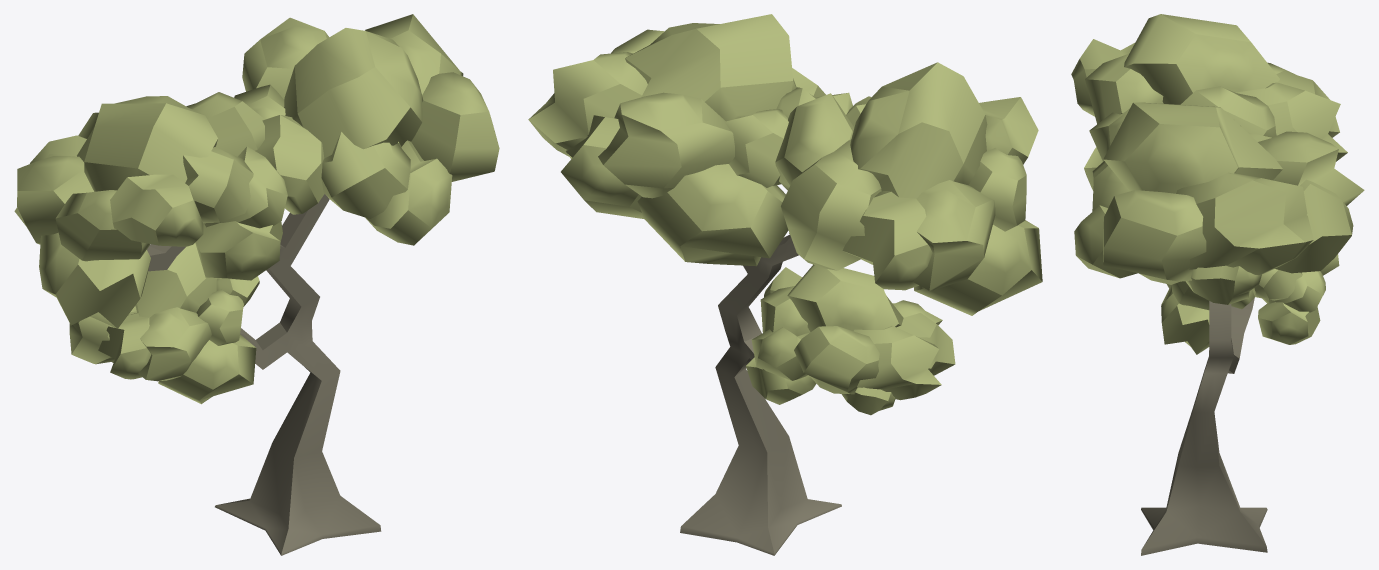
Rendered from TreeType3.fbx.
3 renders of one model, left to right at view 1: azimuth 30°, elevation 25°; view 2: azimuth 150°, elevation 25°; view 3: azimuth 270°, elevation 25°, orthographic. The views are drawn at different scales.
Parts seen in each view (by area): view 1: Leaves3 (×3), Tree2, Leaves1 (×3), Leaves10 (×3), Leaves19 (×2), Leaves6 (×2), Leaves5 (×2), Leaves4 (×2), Leaves7 (×3), Leaves8 (×2), Leaves20, Leaves2 (×2); view 2: Leaves3 (×3), Leaves8 (×3), Tree2, Leaves19 (×2), Leaves1 (×2), Leaves2 (×3), Leaves6 (×2), Leaves7 (×2), Leaves10 (×2), Leaves4, Leaves5, Leaves20 (+1 smaller); view 3: Leaves3 (×2), Leaves8 (×2), Tree2, Leaves6 (×2), Leaves5 (×3), Leaves2 (×2), Leaves4 (×3), Leaves1, Leaves9, Leaves19, Leaves20, Leaves10 (+1 smaller).
Part boxes in pixels (box(x1,y1,x2,y2)): Leaves3 (×3): box(77, 28, 422, 317); Tree2: box(147, 194, 381, 555); Leaves1 (×3): box(14, 17, 329, 381); Leaves10 (×3): box(110, 115, 324, 306); Leaves19 (×2): box(39, 232, 256, 404); Leaves6 (×2): box(186, 72, 499, 181); Leaves5 (×2): box(183, 132, 410, 223); Leaves4 (×2): box(204, 140, 452, 245); Leaves7 (×3): box(55, 84, 285, 345); Leaves8 (×2): box(69, 14, 463, 364); Leaves20: box(195, 221, 282, 280); Leaves2 (×2): box(30, 135, 151, 379); Leaves3 (×3): box(625, 14, 987, 331); Leaves8 (×3): box(528, 52, 941, 400); Tree2: box(680, 234, 841, 555); Leaves19 (×2): box(637, 164, 1042, 315); Leaves1 (×2): box(598, 92, 995, 290); Leaves2 (×3): box(561, 115, 955, 375); Leaves6 (×2): box(775, 93, 879, 394); Leaves7 (×2): box(724, 109, 1026, 231); Leaves10 (×2): box(776, 87, 1038, 164); Leaves4: box(751, 327, 808, 380); Leaves5: box(760, 286, 810, 336); Leaves20: box(746, 357, 816, 404); Leaves3 (×2): box(1103, 14, 1282, 193); Leaves8 (×2): box(1176, 82, 1347, 275); Tree2: box(1141, 297, 1267, 555); Leaves6 (×2): box(1103, 86, 1276, 284); Leaves5 (×3): box(1085, 54, 1302, 300); Leaves2 (×2): box(1275, 71, 1353, 273); Leaves4 (×3): box(1074, 108, 1325, 312); Leaves1: box(1258, 131, 1364, 205); Leaves9: box(1185, 265, 1261, 304); Leaves19: box(1161, 285, 1209, 354); Leaves20: box(1258, 302, 1320, 344); Leaves10: box(1071, 39, 1134, 116).
Bounding box in the file's own units: 3.67 × 3.79 × 2.24.
